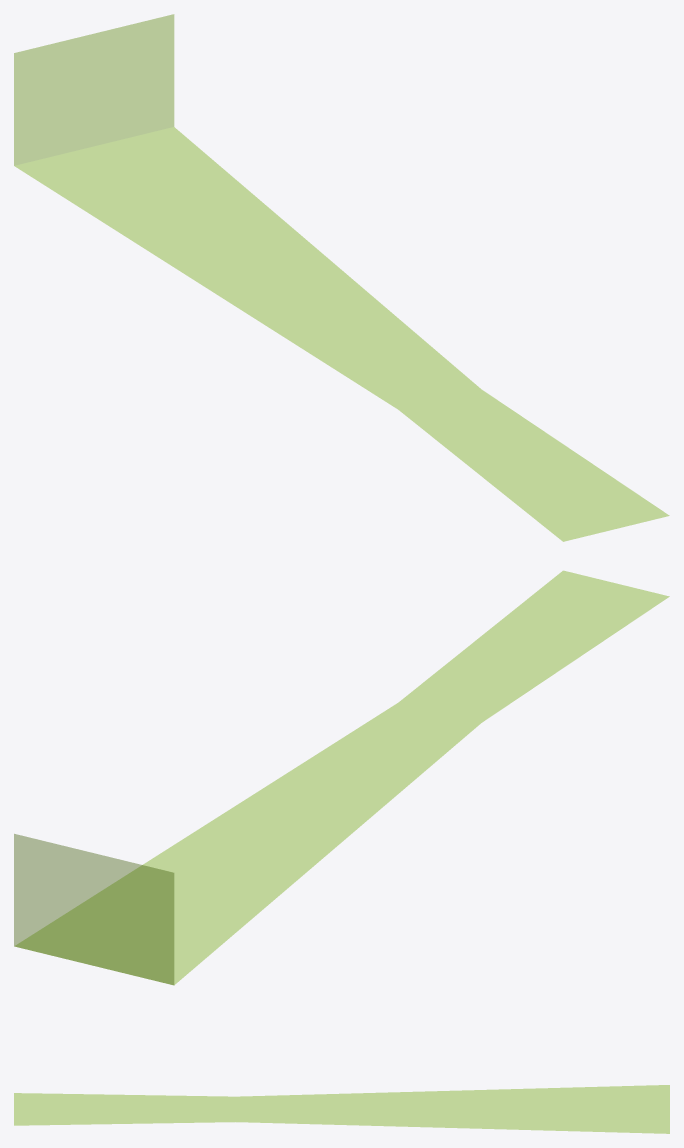
Rendered from Hall_MainHallWay_T_VISION.fbx.
The picture shows the model from 3 angles, top to bottom: view 1: azimuth 30°, elevation 25°; view 2: azimuth 150°, elevation 25°; view 3: azimuth 270°, elevation 25°; orthographic projection. The views are drawn at different scales.
Parts seen in each view (by area): view 1: Hall_MainHallWay_T_VISION; view 2: Hall_MainHallWay_T_VISION; view 3: Hall_MainHallWay_T_VISION.
Boxes of the visible parts, left/top/right/bottom form: Hall_MainHallWay_T_VISION: left=14, top=14, right=669, bottom=541; Hall_MainHallWay_T_VISION: left=14, top=571, right=669, bottom=985; Hall_MainHallWay_T_VISION: left=14, top=1085, right=669, bottom=1133.
Size of the model in its own units: 53.51 by 36 by 302.
